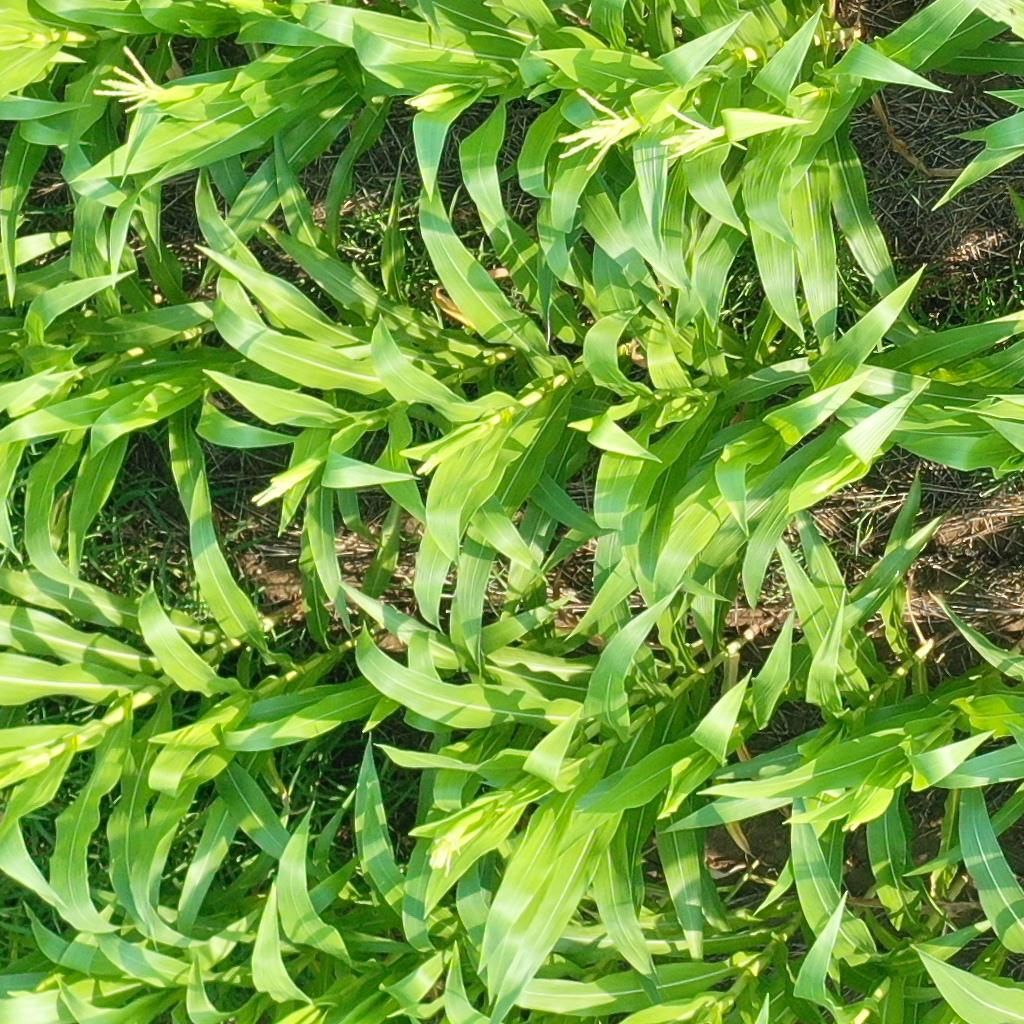Tassel: (550, 84, 643, 180), (88, 41, 169, 115), (651, 101, 736, 166), (417, 818, 464, 880), (252, 472, 299, 514), (408, 86, 441, 116), (416, 446, 445, 480)
